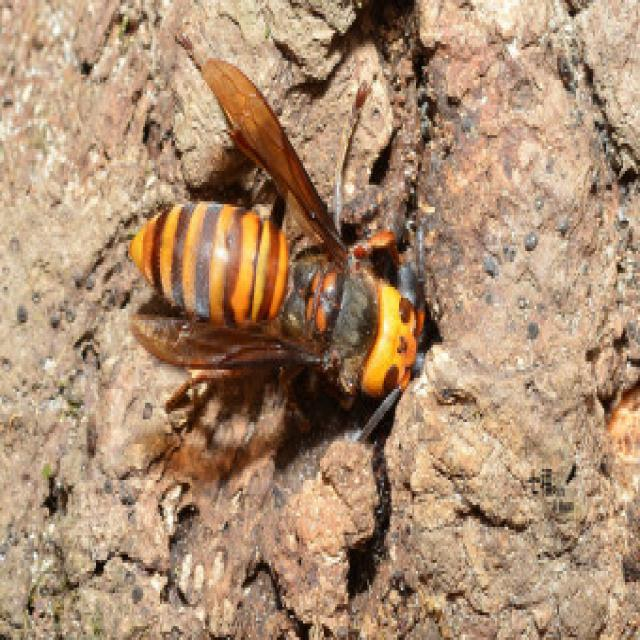Wasp: (116, 49, 426, 477)
